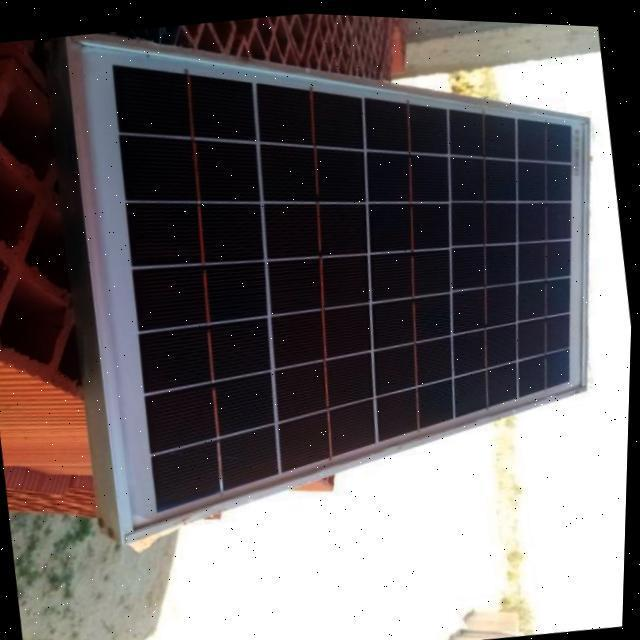Normal Solar Panel: (56, 2, 640, 558)
